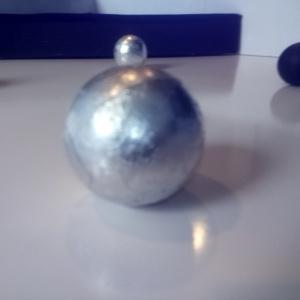zone: (1, 12, 241, 60)
